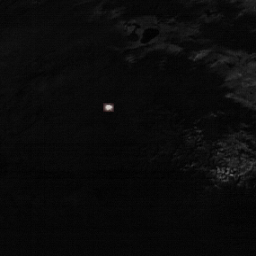Target: (103, 102, 114, 112)
